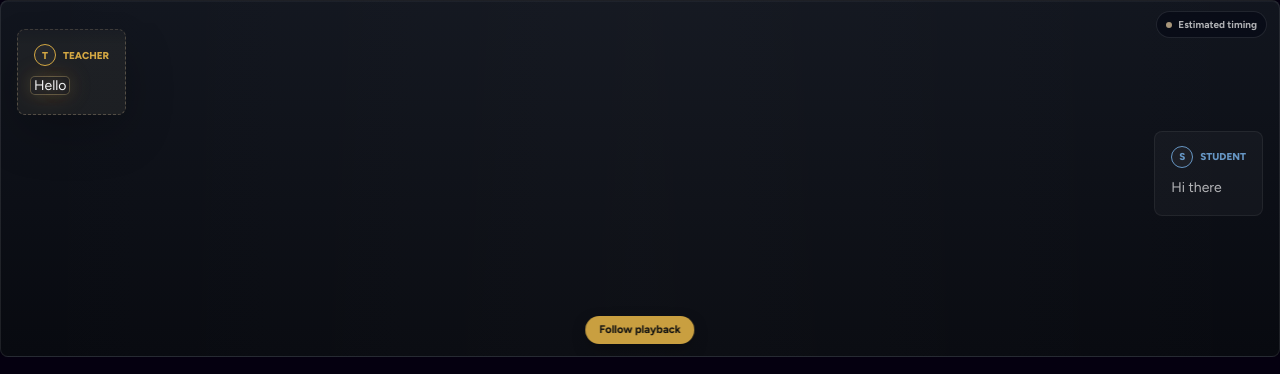
Test: manual scroll suspends auto-follow and the Follow playback chip resumes it
This screenshot has width=1280, height=374.
Click the button with test id "teleprompter-follow-chip" at coordinates (640, 330), box [585,316,695,344]
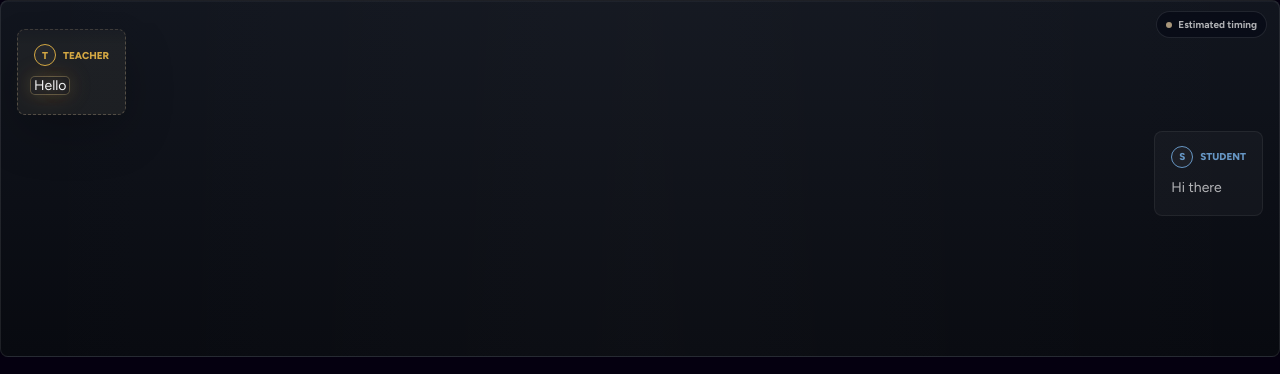
Expected: the button with test id "teleprompter-follow-chip" is gone
